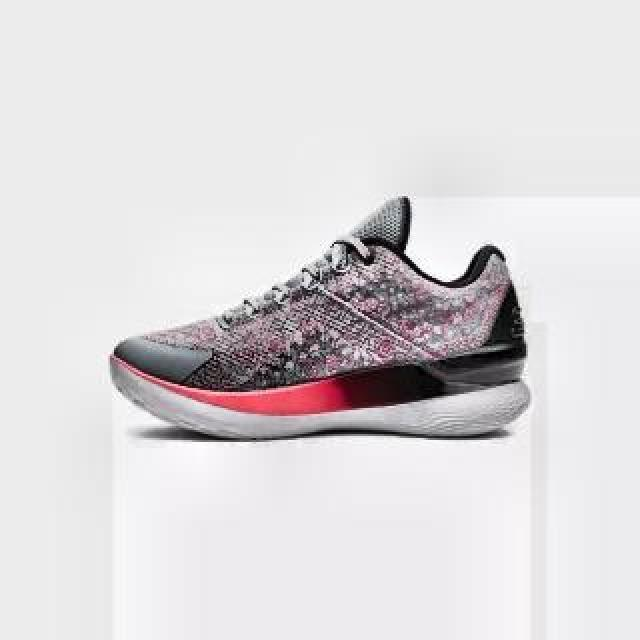shoes: (102, 190, 538, 443), (111, 195, 529, 441)
